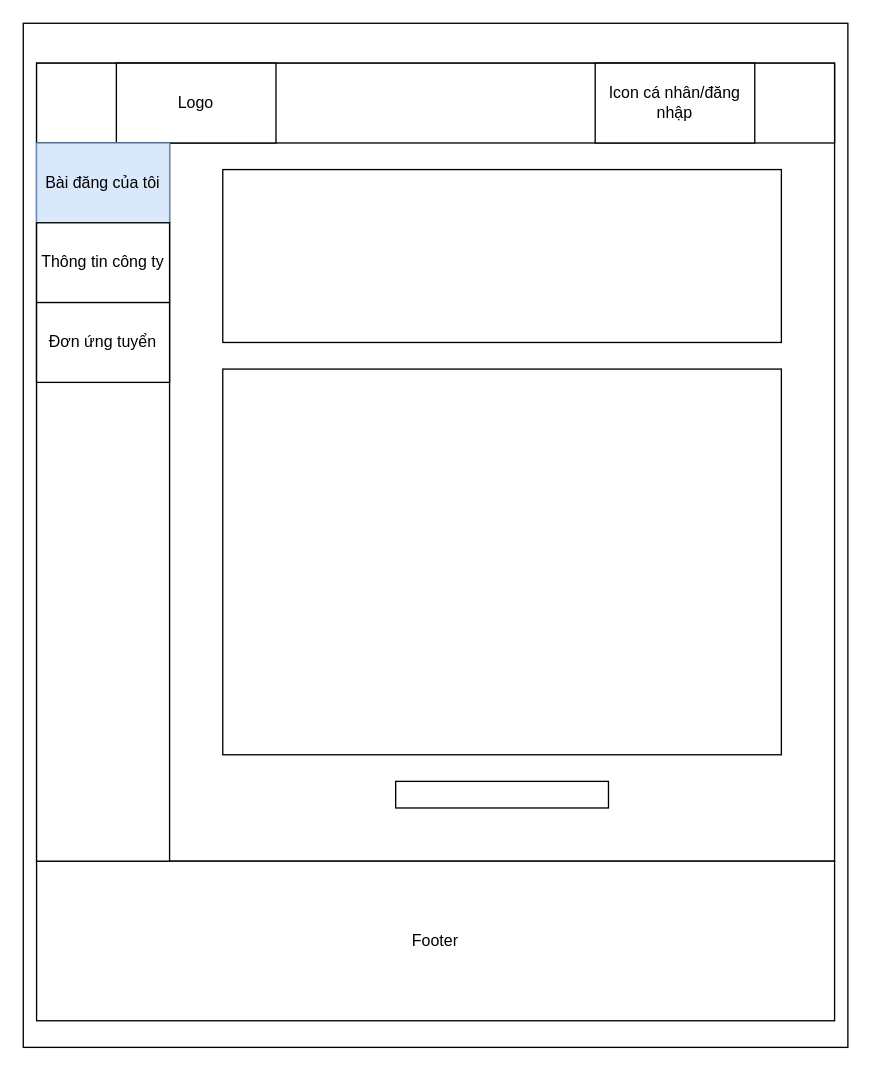
This 871x1071 diagram has some shape labels left out. The centre of each missing label's shape, as x and y in pixels:
"Biểu đồ số công việc đã duyệt/công việc đã từ chối/chưa duyệt" goes at (x=501, y=255).
"Danh sách bài đăng" goes at (x=501, y=561).
"Phân trang" goes at (x=501, y=794).
